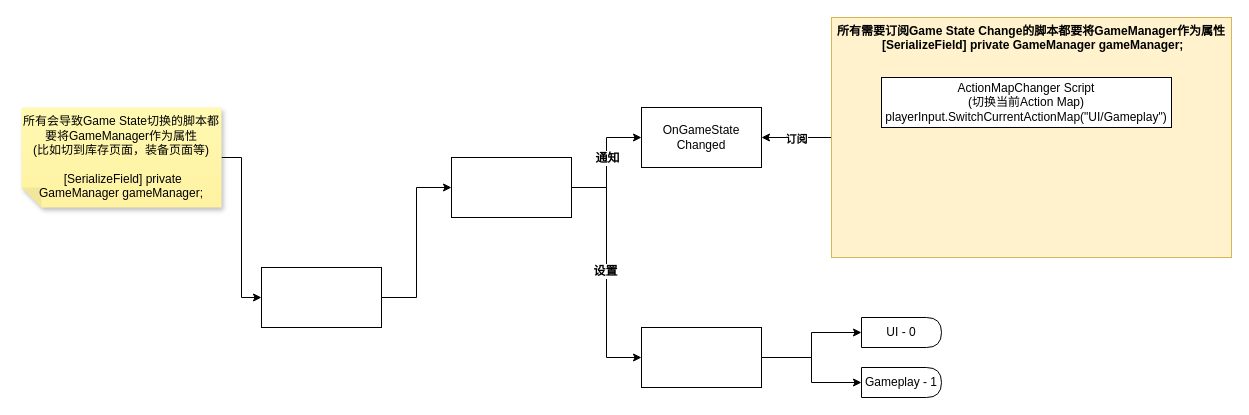
Image size: 1249x415. Some labels were removed from this diagram. Here are the shapes that lost their labels. From the top down, the centre of each, then its label:
the point at 511,187: Game State 切换 (Gameplay/UI)
the point at 321,297: Game Manager Script (全局管理脚本)
the point at 701,357: Time.timeScale
